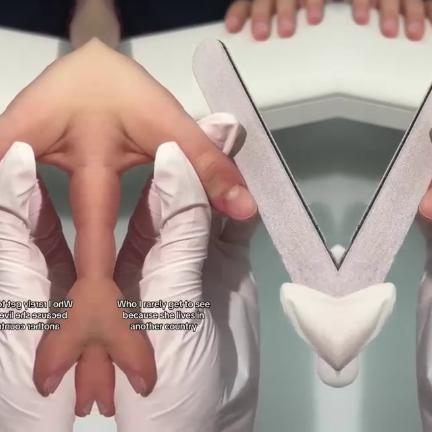Nail: (222, 184, 256, 219), (418, 186, 432, 219), (125, 371, 142, 394), (46, 371, 63, 394), (95, 400, 106, 415), (82, 400, 93, 415)
